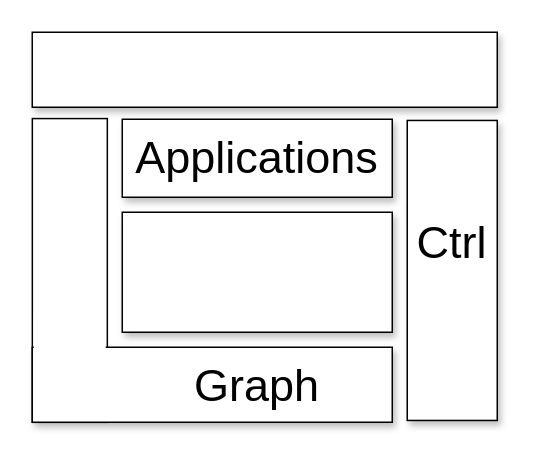
This 534x459 diagram has some shape labels left out. The shapes that lost their labels are listed below. From the top down, each one's centre as x and y in pixels, then its label:
At point (265, 71): "User".
At point (258, 274): "Infrastructure".
